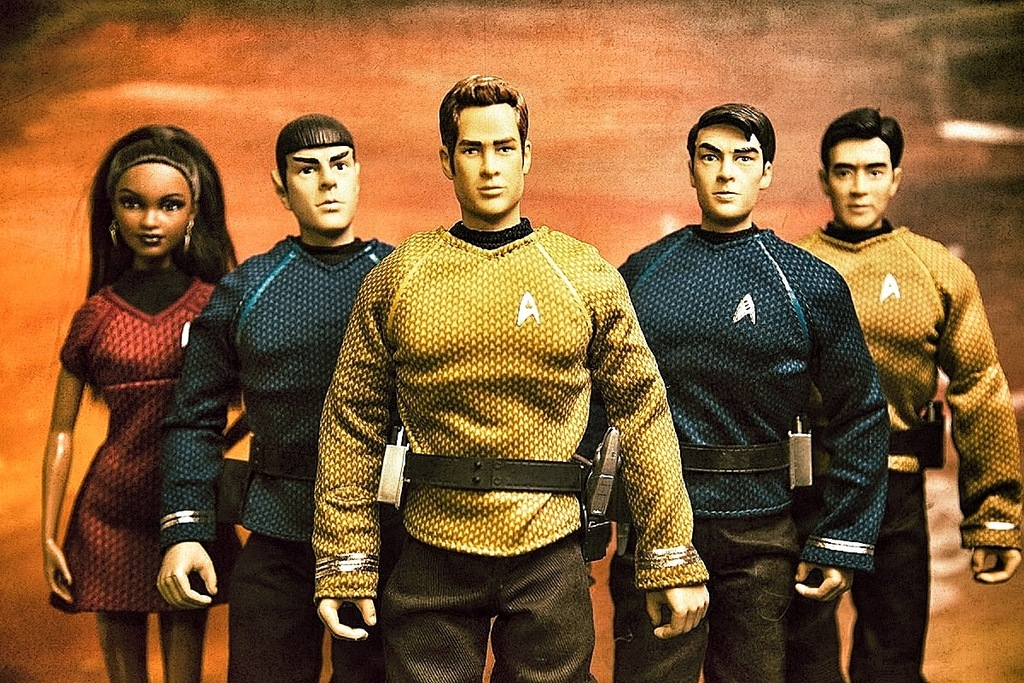Person: (36, 122, 242, 682)
